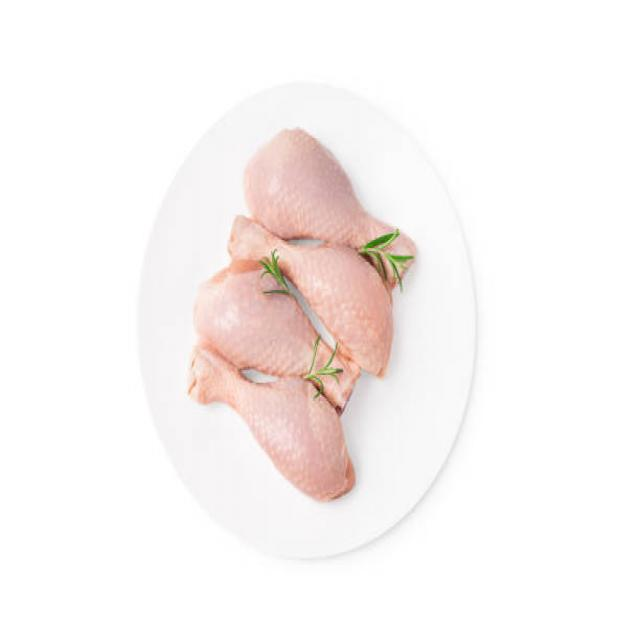Chicken Thigh: (181, 364, 351, 512), (236, 124, 418, 244), (188, 264, 351, 392)
